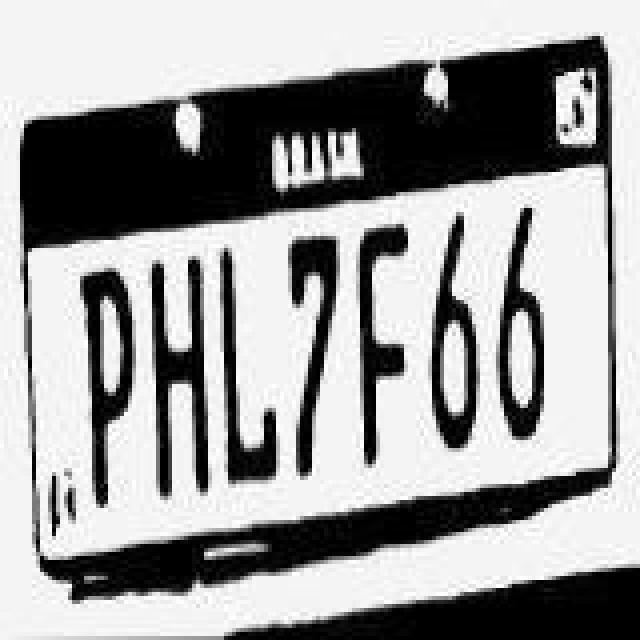6: (430, 214, 482, 454), (494, 206, 546, 442)
7: (286, 232, 338, 476)
F: (356, 226, 412, 466)
H: (144, 256, 208, 500)
L: (218, 246, 278, 486)
P: (80, 268, 136, 508)
